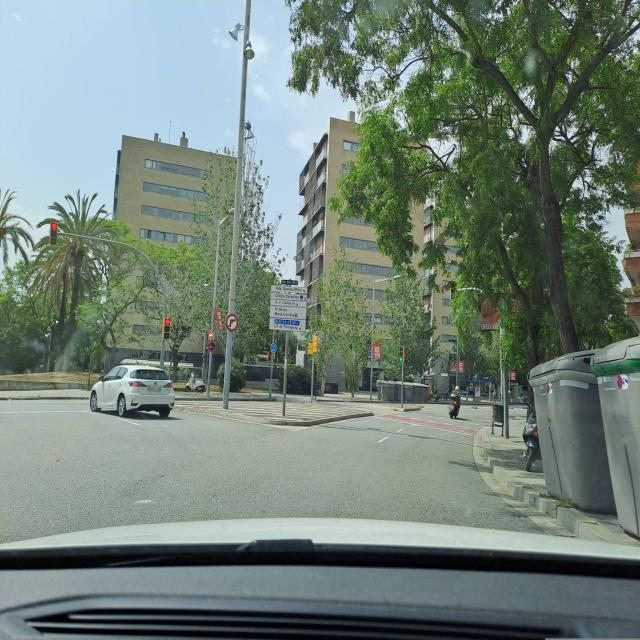bike: (522, 406, 542, 472), (448, 391, 462, 419)
car: (89, 364, 176, 418)
